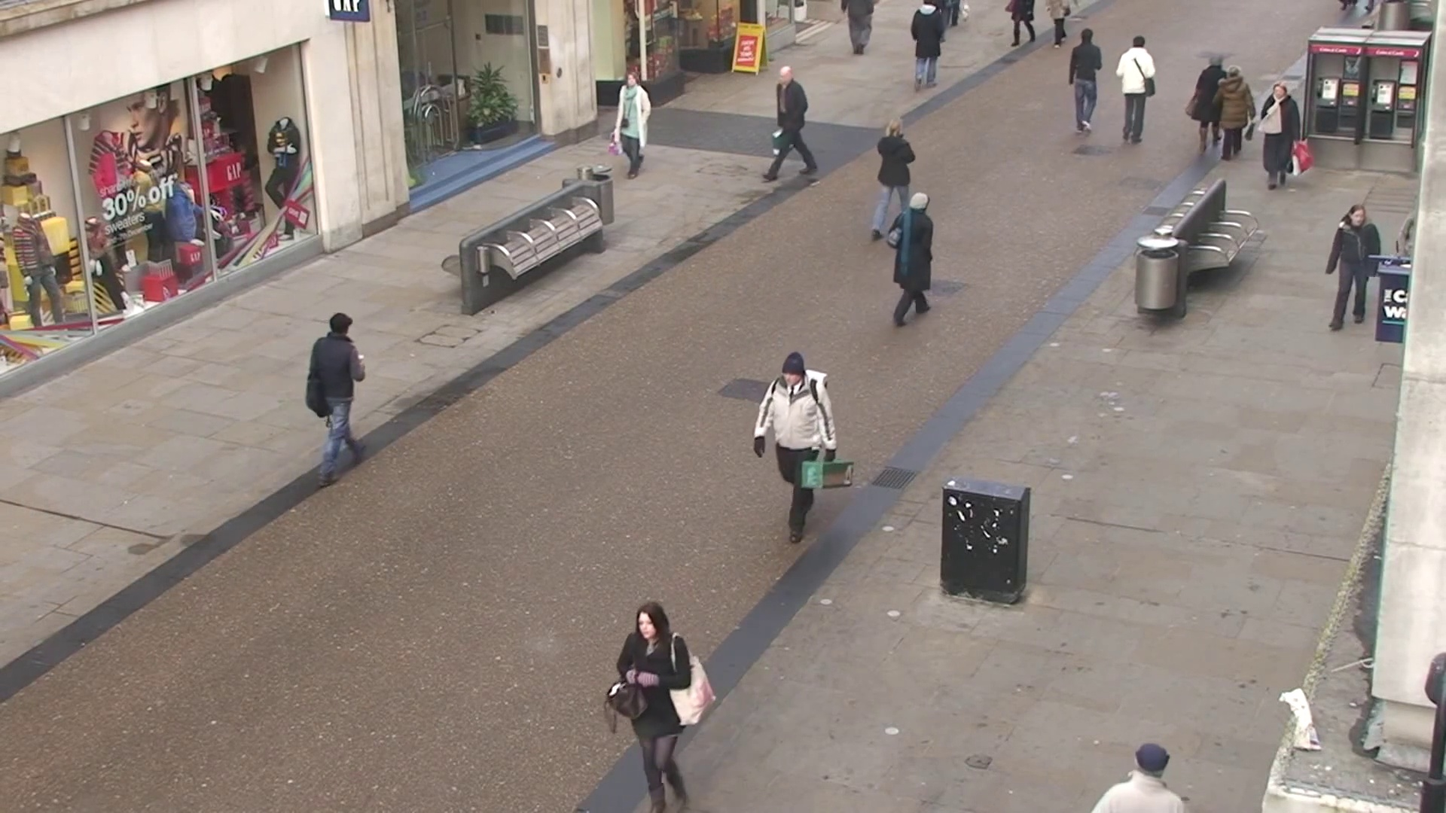person: (607, 602, 711, 811), (751, 352, 836, 546), (308, 312, 368, 473), (1324, 203, 1383, 330), (1091, 744, 1188, 811), (764, 64, 818, 182), (868, 117, 917, 247), (889, 190, 935, 326), (1115, 34, 1158, 146), (1257, 80, 1298, 191), (612, 69, 652, 178), (1186, 61, 1224, 163), (1069, 27, 1105, 134), (1216, 62, 1252, 161), (911, 5, 947, 90), (834, 0, 883, 60), (993, 0, 1044, 49), (1054, 0, 1076, 50)
